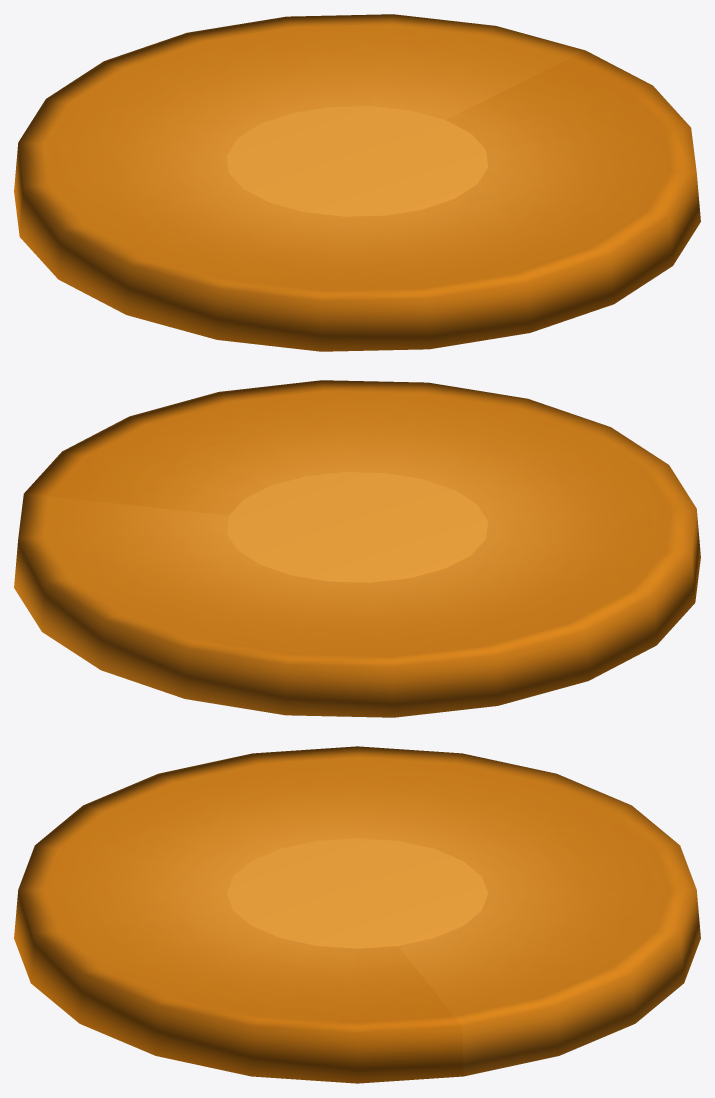
File: Bun.obj
The picture shows the model from 3 angles, top to bottom: view 1: azimuth 30°, elevation 25°; view 2: azimuth 150°, elevation 25°; view 3: azimuth 270°, elevation 25°; orthographic projection.
Visible parts, largest first — view 1: polySurface19 polySurface16; view 2: polySurface19 polySurface16; view 3: polySurface19 polySurface16.
Part boxes in pixels (x1,y1,x2,y2): polySurface19 polySurface16: (14,14,700,351); polySurface19 polySurface16: (14,380,700,717); polySurface19 polySurface16: (14,746,700,1083).
Size of the model in its own units: 2 by 0.354 by 2.
1 material, 1 textured.
